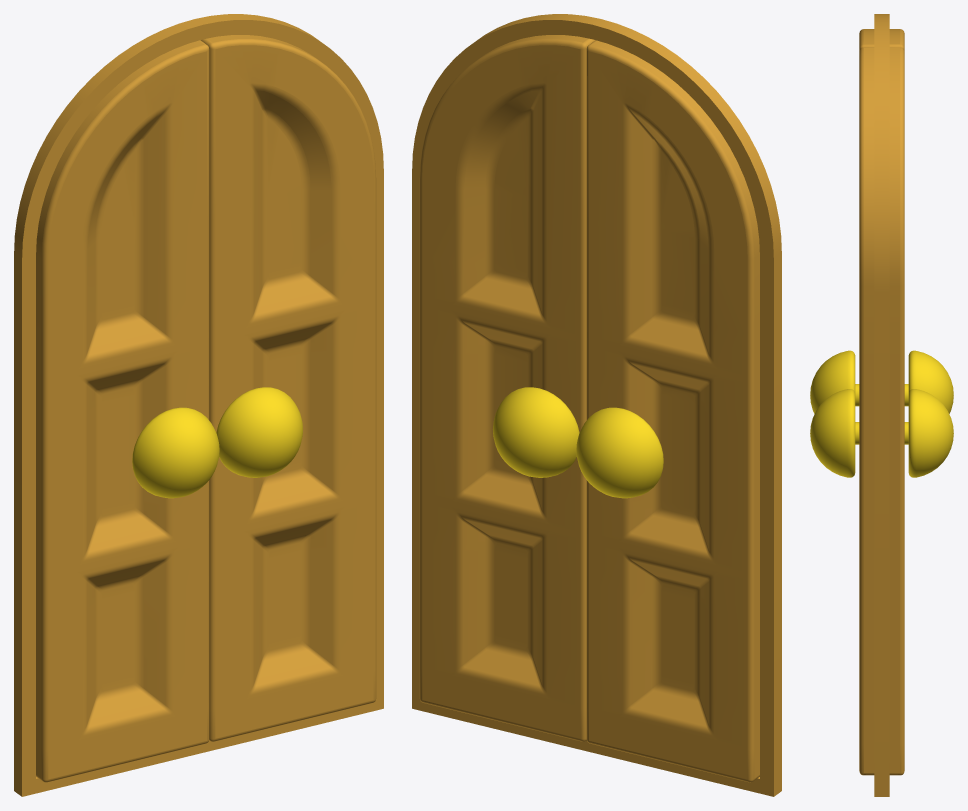
File: door.dae
3 views of the same model, side by side, from view 1: azimuth 30°, elevation 25°; view 2: azimuth 150°, elevation 25°; view 3: azimuth 270°, elevation 25° (orthographic). The views are drawn at different scales.
Visible parts, largest first — view 1: Right, Left, Frame, RightKnob, LeftKnob; view 2: Right, Left, Frame, RightKnob, LeftKnob; view 3: Left, Frame, LeftKnob, RightKnob, Right.
Part boxes in pixels (x1,y1,x2,y2): Right: (36, 40, 209, 782); Left: (200, 35, 376, 741); Frame: (14, 14, 383, 796); RightKnob: (132, 407, 219, 498); LeftKnob: (216, 387, 302, 477); Right: (586, 40, 759, 782); Left: (419, 35, 595, 741); Frame: (412, 14, 781, 796); RightKnob: (576, 407, 663, 498); LeftKnob: (493, 387, 579, 477); Left: (859, 47, 904, 775); Frame: (874, 14, 889, 796); LeftKnob: (810, 389, 953, 477); RightKnob: (810, 350, 953, 413); Right: (859, 29, 904, 51).
Bounding box in the file's own units: 86.67 × 167 × 31.83.
